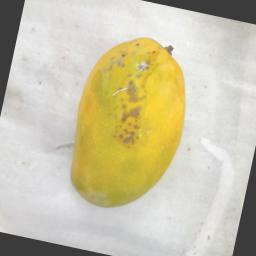Mango Unripe: (11, 0, 256, 256)
